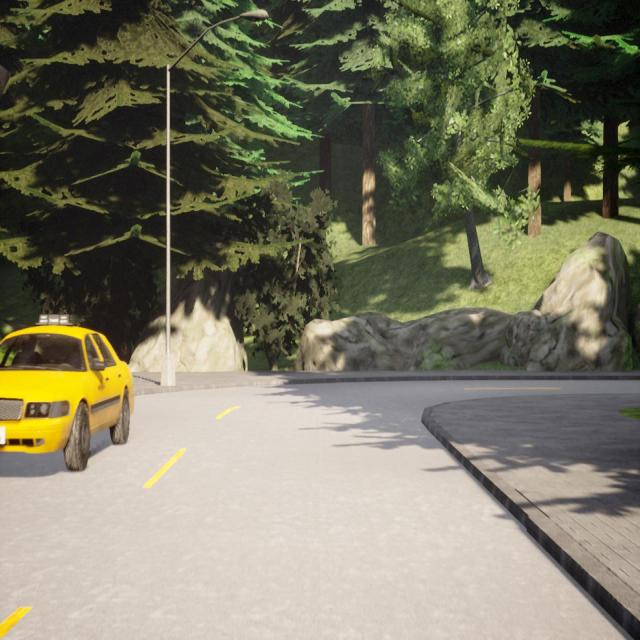Vehicle: (0, 315, 134, 470)
